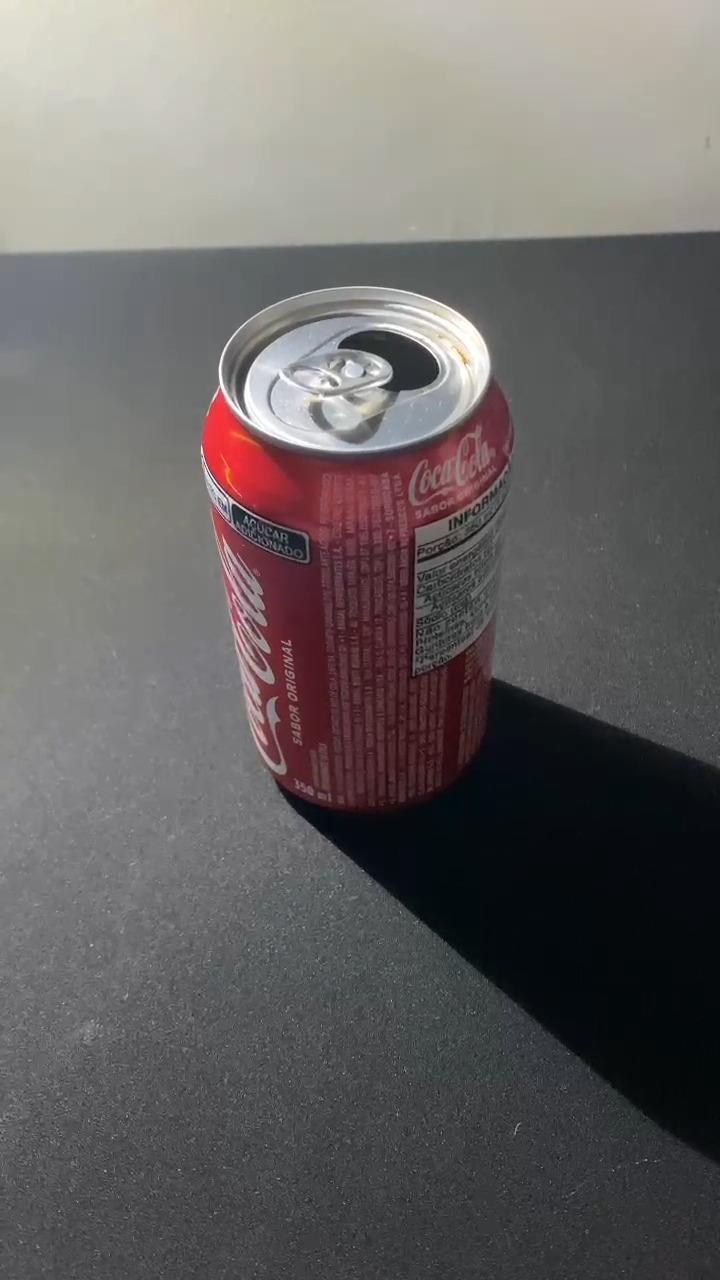coke: (203, 287, 511, 811)
